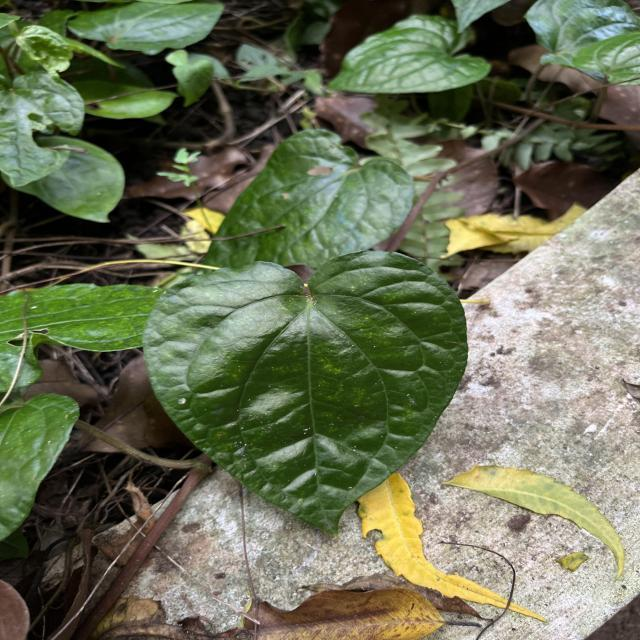Piper betle: (138, 247, 474, 540)
